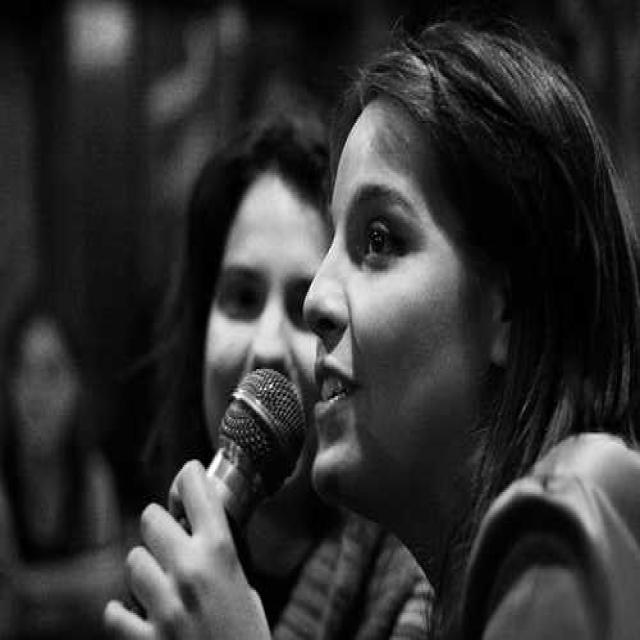microphone: (122, 364, 311, 633)
